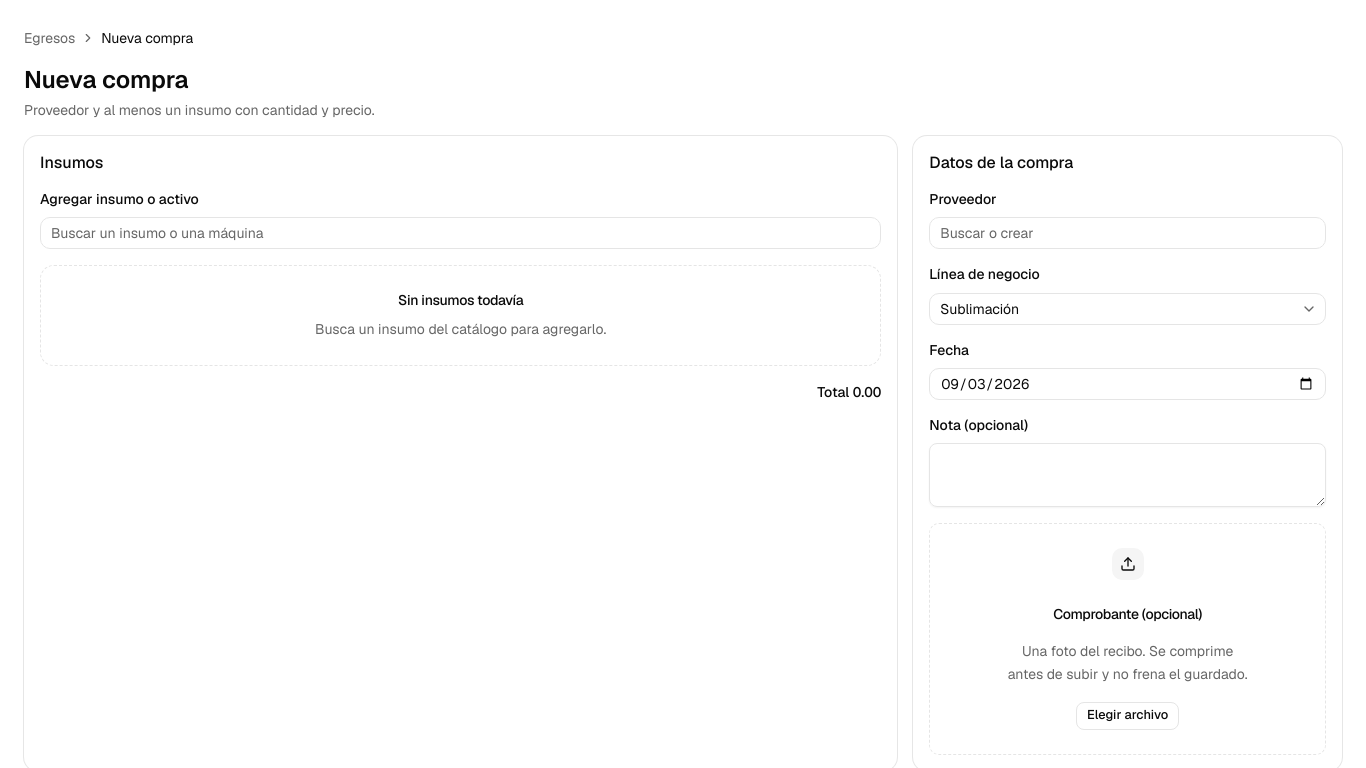
Scenario: PurchaseForm (V8) › sin proveedor se impide señalando el campo de proveedor
Type "Taza" into the field labelled "Agregar insumo o activo".
click(461, 233); type("Taza")  # box [40,217,881,249]
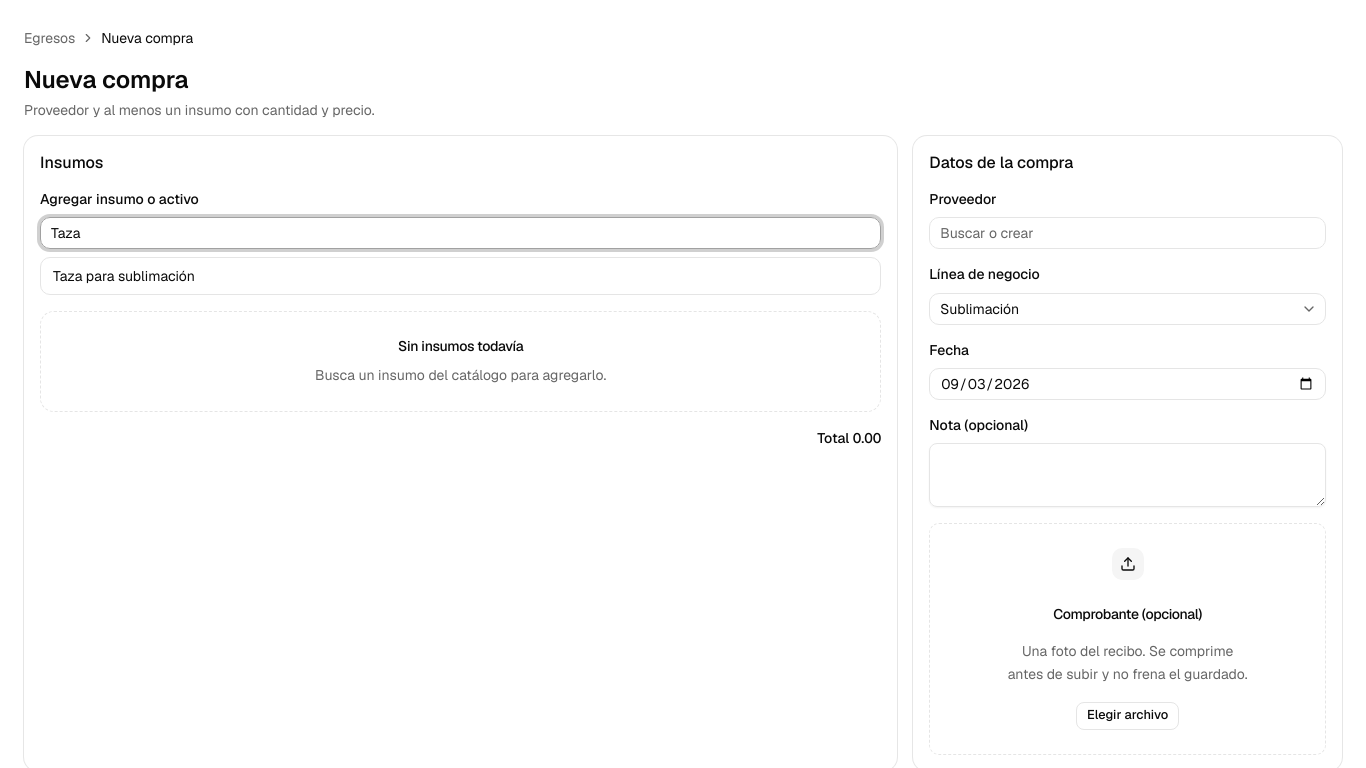
Click the button "Taza para sublimación".
click(124, 276)  # box [41,258,880,294]
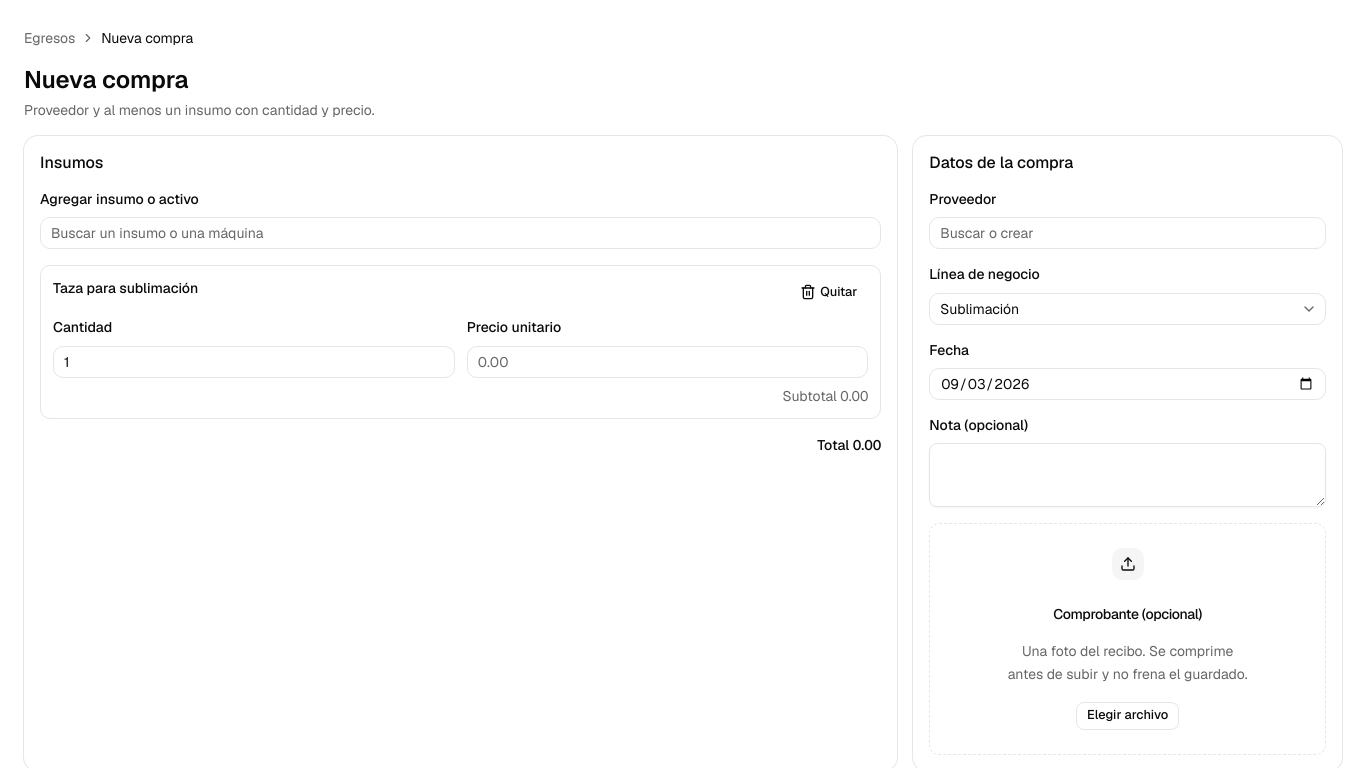
Type "9.20" into the number field labelled "Precio unitario".
click(668, 362); type("9.20")  # box [467,346,868,378]
(page scrolled)
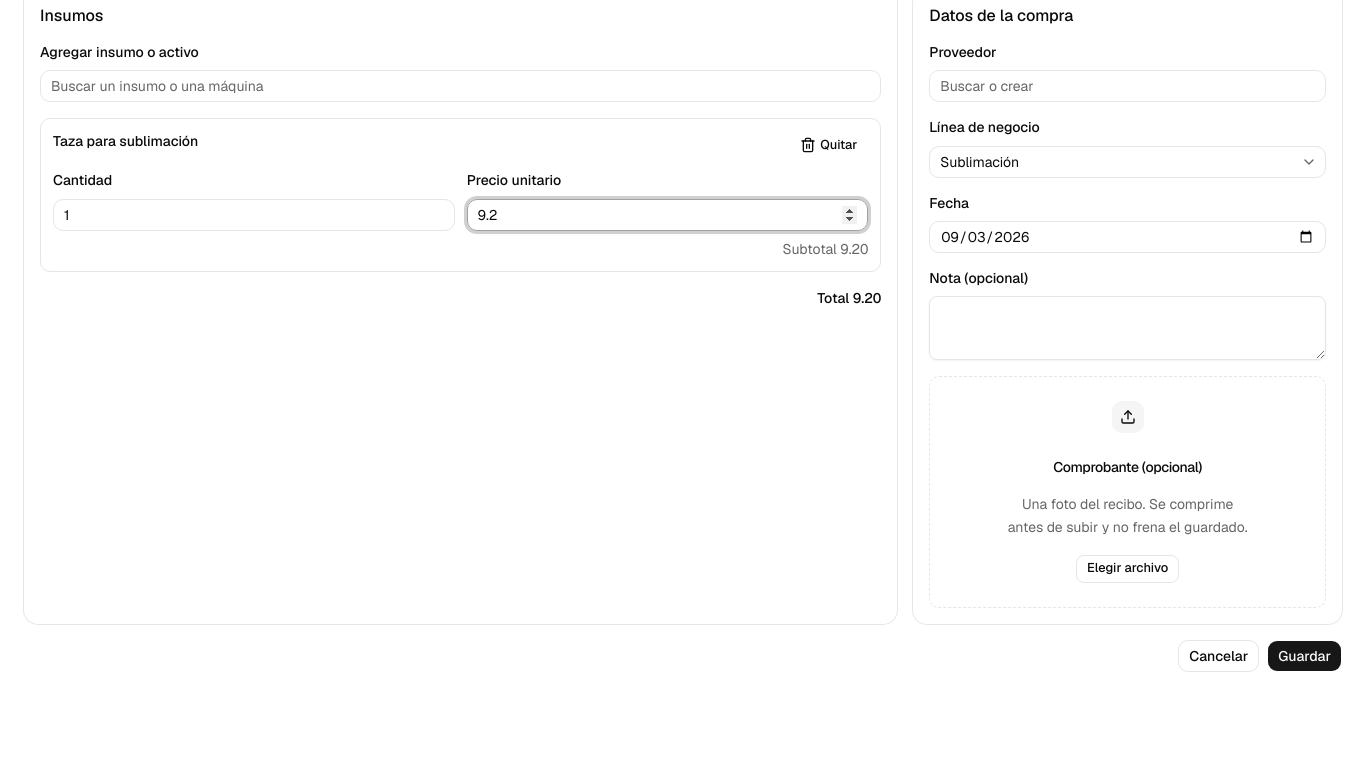
Click the button with test id "save-purchase".
click(1305, 656)  # box [1267,640,1342,672]
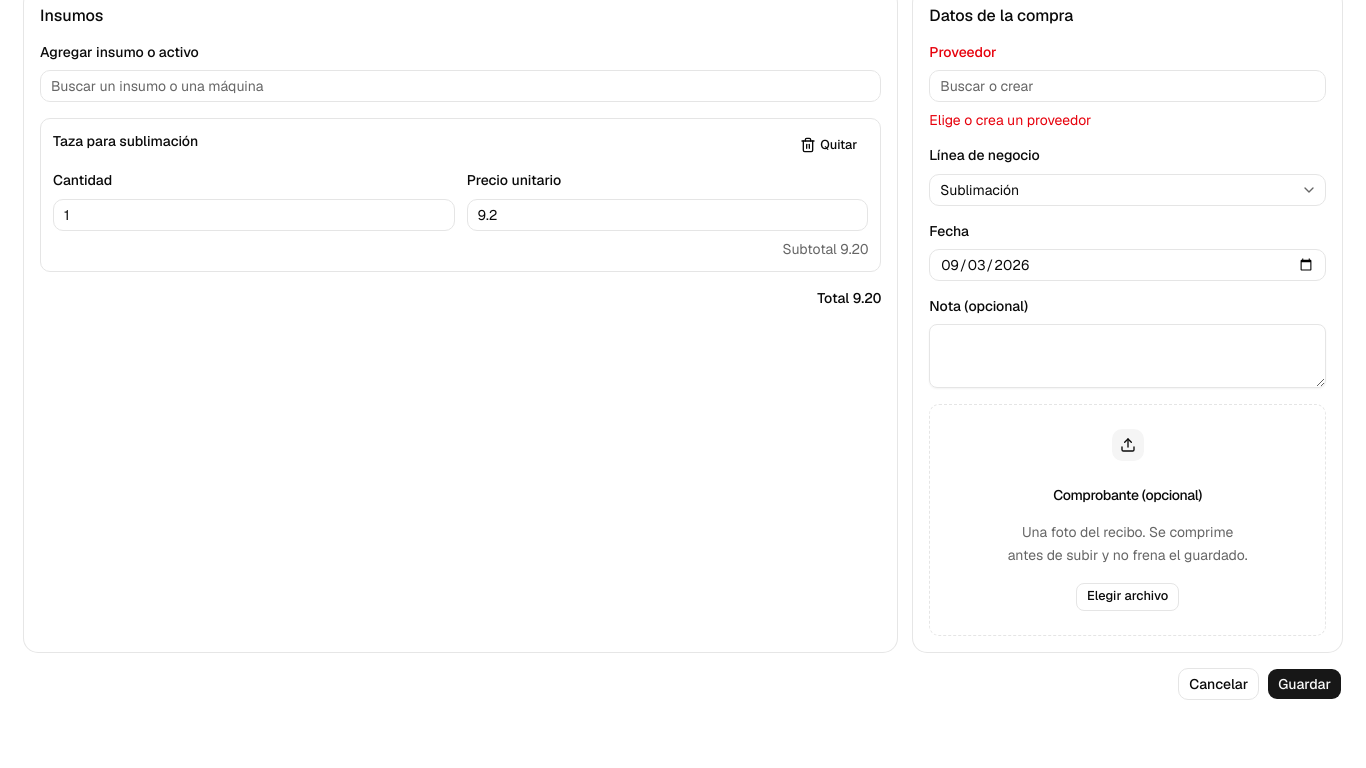
Check: the message with test id "supplier-error" reads "Elige o crea un proveedor", box [929,111,1091,129]
